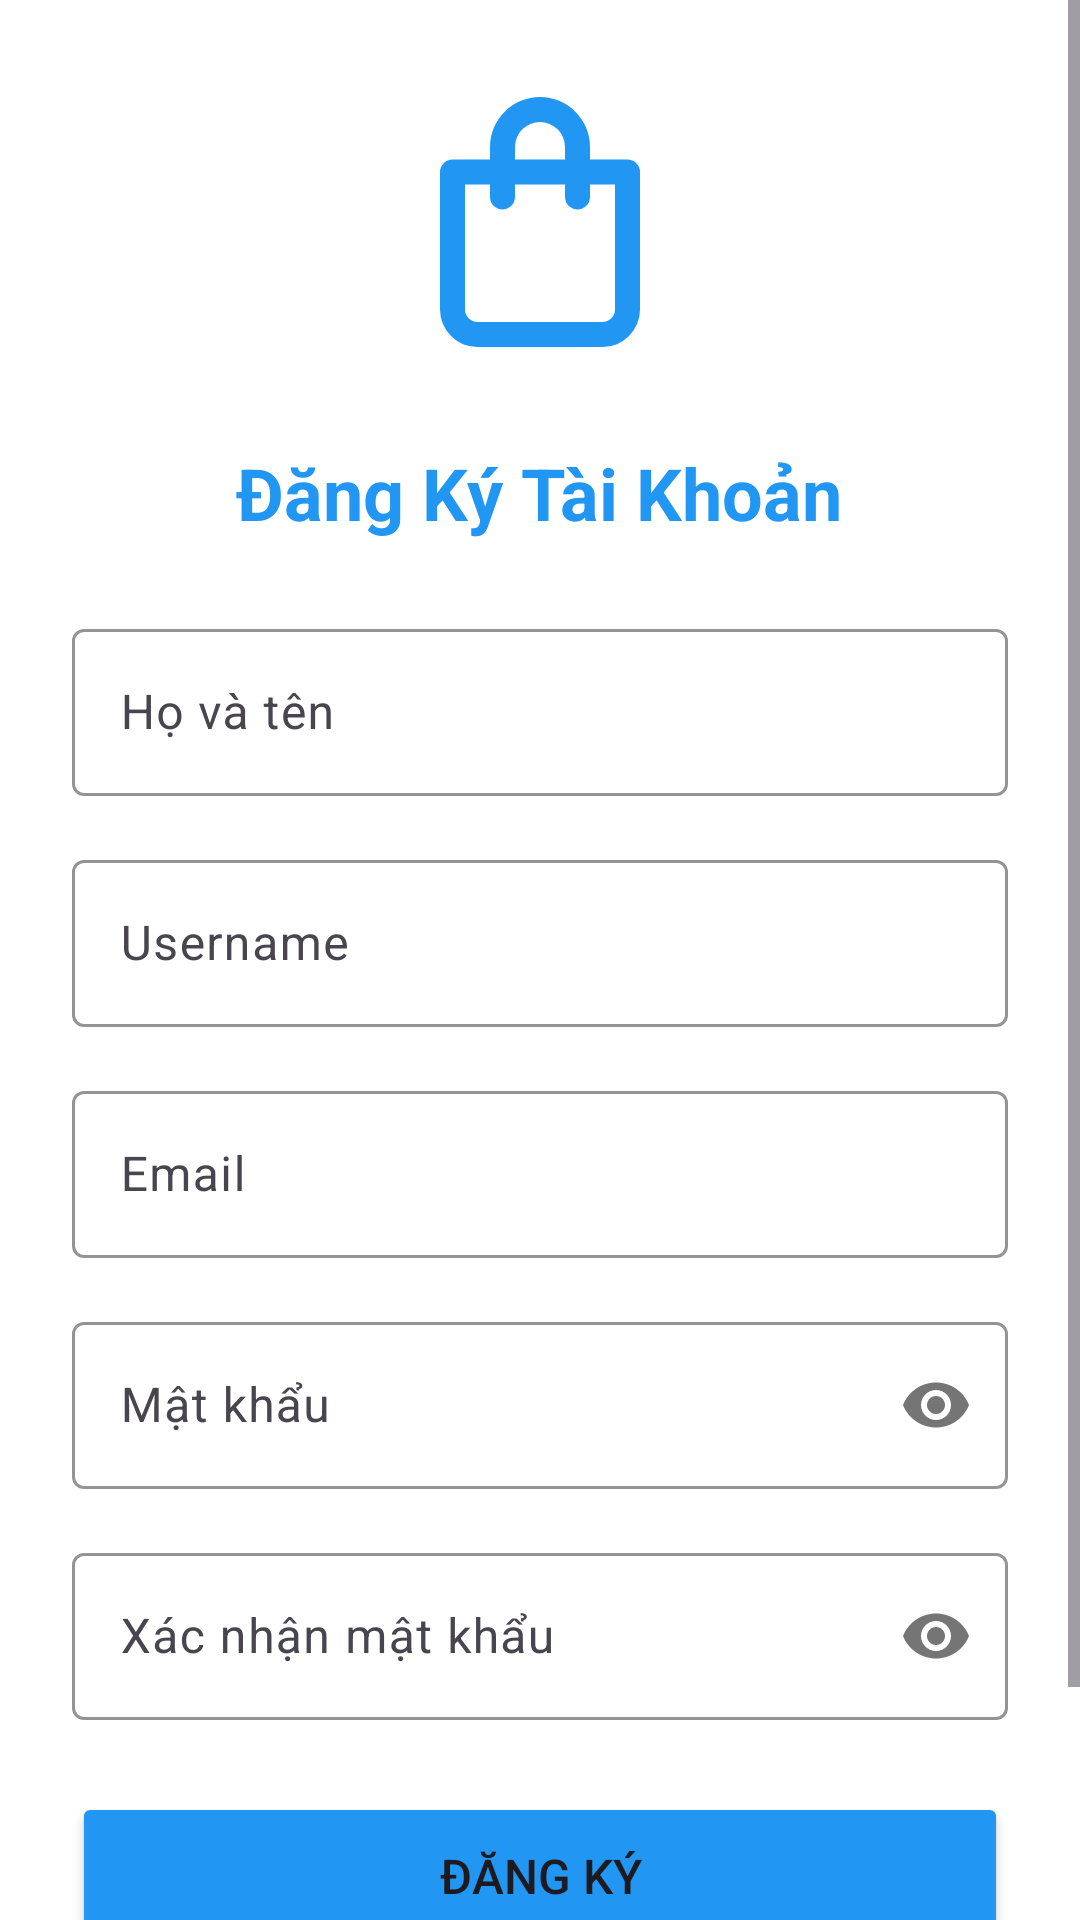

Where to tap for icons on this 1080x1920 app screen, as [x,y]:
shopping bag: [540,222]
